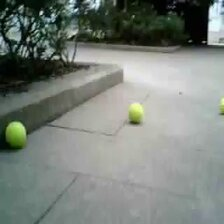tennis: (5, 120, 28, 149), (127, 102, 143, 121)
